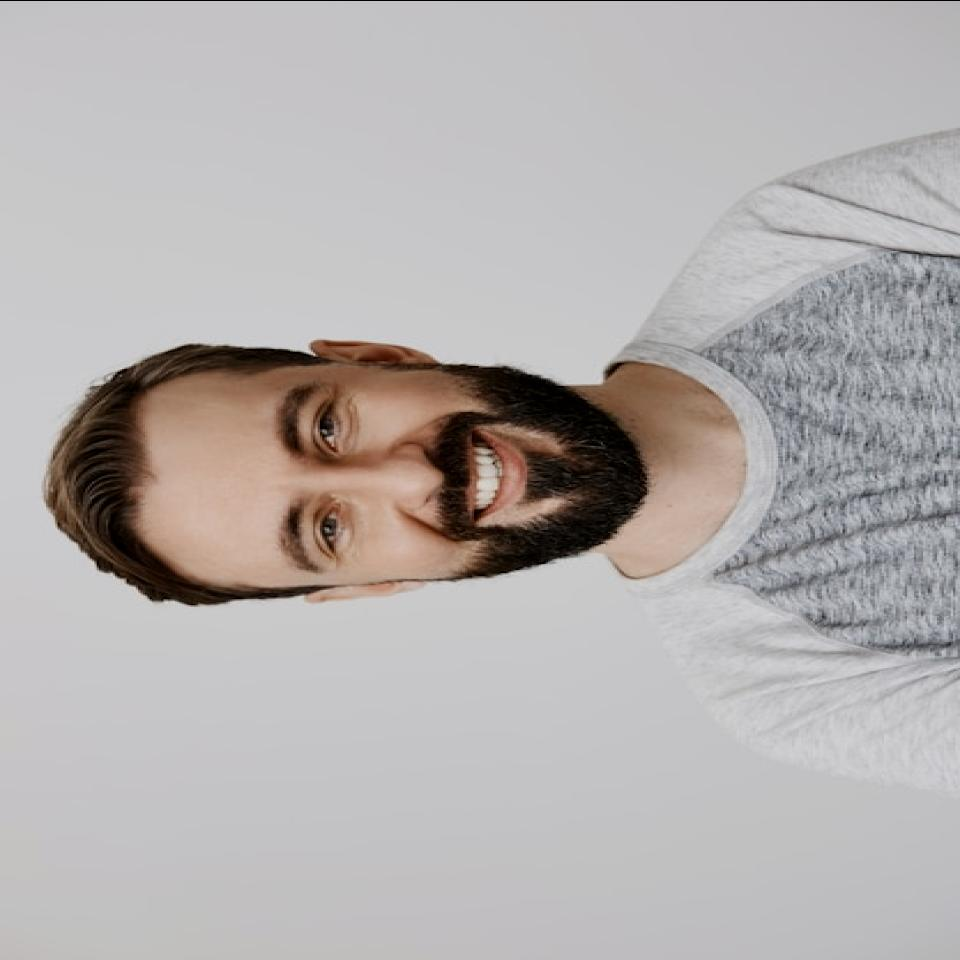Happiness: (147, 364, 647, 588)
